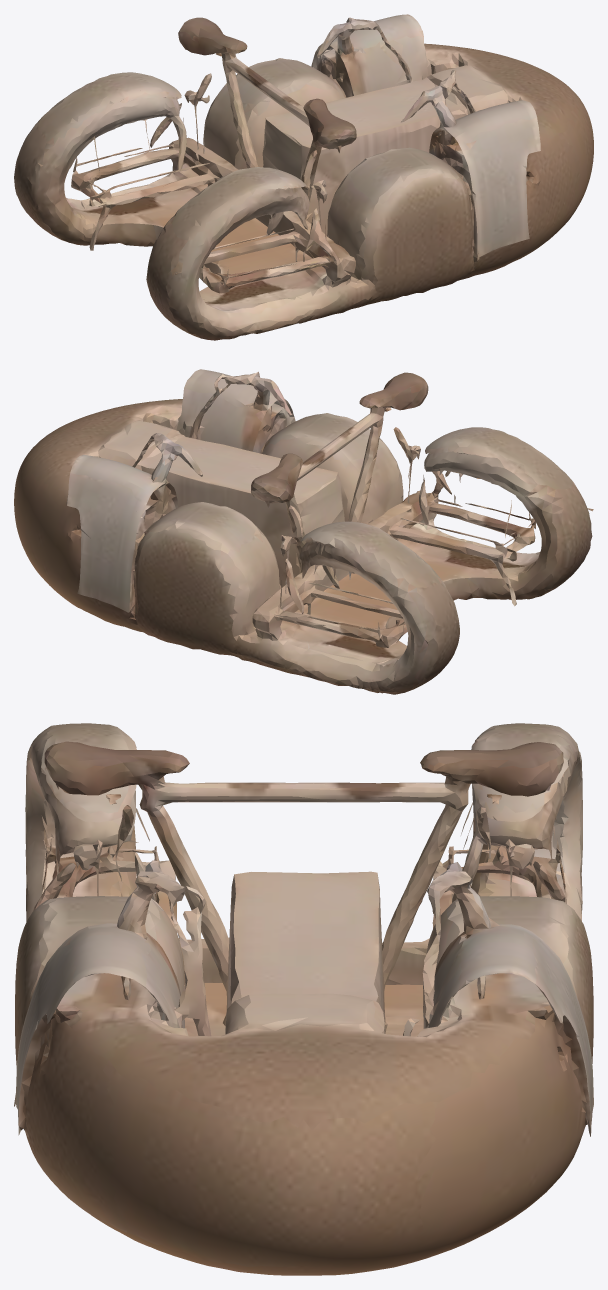
File: bike.glb
3 views of the same model, one above another, from view 1: azimuth 30°, elevation 25°; view 2: azimuth 150°, elevation 25°; view 3: azimuth 270°, elevation 25° (orthographic). The views are drawn at different scales.
Parts seen in each view (by area): view 1: RODIN_BIKE; view 2: RODIN_BIKE; view 3: RODIN_BIKE.
Boxes of the visible parts, bbox=[...] form: RODIN_BIKE: bbox=[14, 14, 593, 340]; RODIN_BIKE: bbox=[14, 369, 593, 694]; RODIN_BIKE: bbox=[14, 723, 593, 1275].
Bounding box in the file's own units: 3.86 × 1.35 × 2.34.
1 material, 1 textured.
